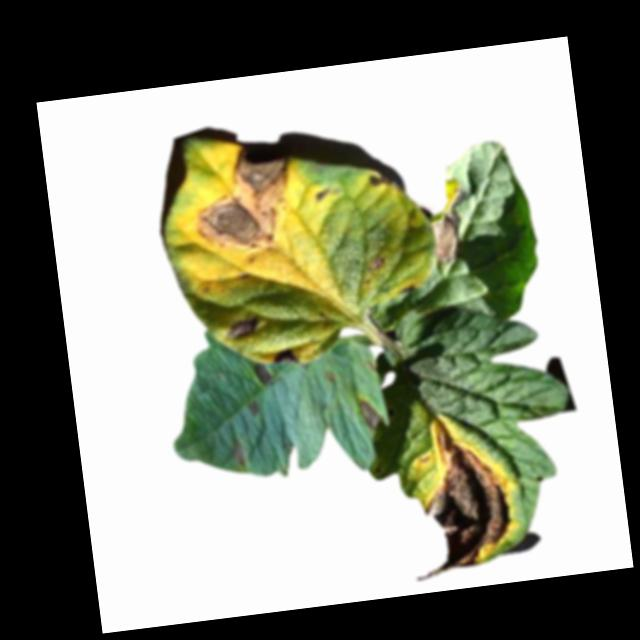Early_blight: (397, 410, 528, 586), (174, 138, 302, 265), (422, 175, 475, 267), (221, 315, 262, 341), (356, 397, 383, 432), (365, 171, 398, 199), (228, 435, 250, 469), (269, 345, 301, 368), (250, 362, 273, 390), (366, 253, 388, 272), (311, 188, 331, 207), (244, 398, 261, 420)
